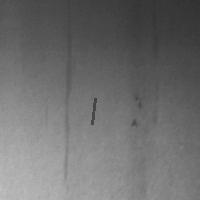inclusion: (54, 2, 78, 187), (143, 2, 166, 68), (90, 96, 97, 126)
